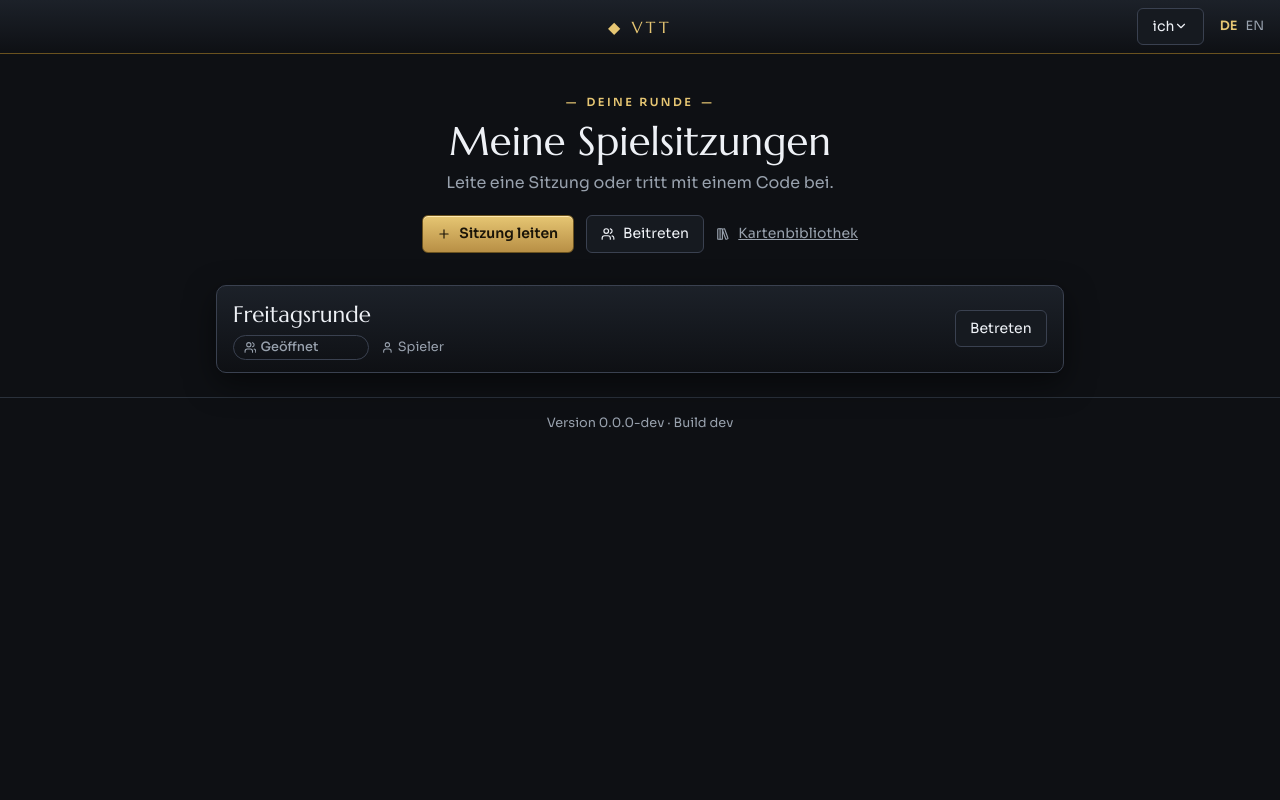
Werkzeugwahl erreicht die Kartenansicht
Check: the heading "Freitagsrunde" is shown, box [233, 300, 371, 328]
What coordinates should you click on to do the following:
click the button "Betreten"
I would click on:
 (1001, 328)
Its box is [955, 310, 1047, 347].
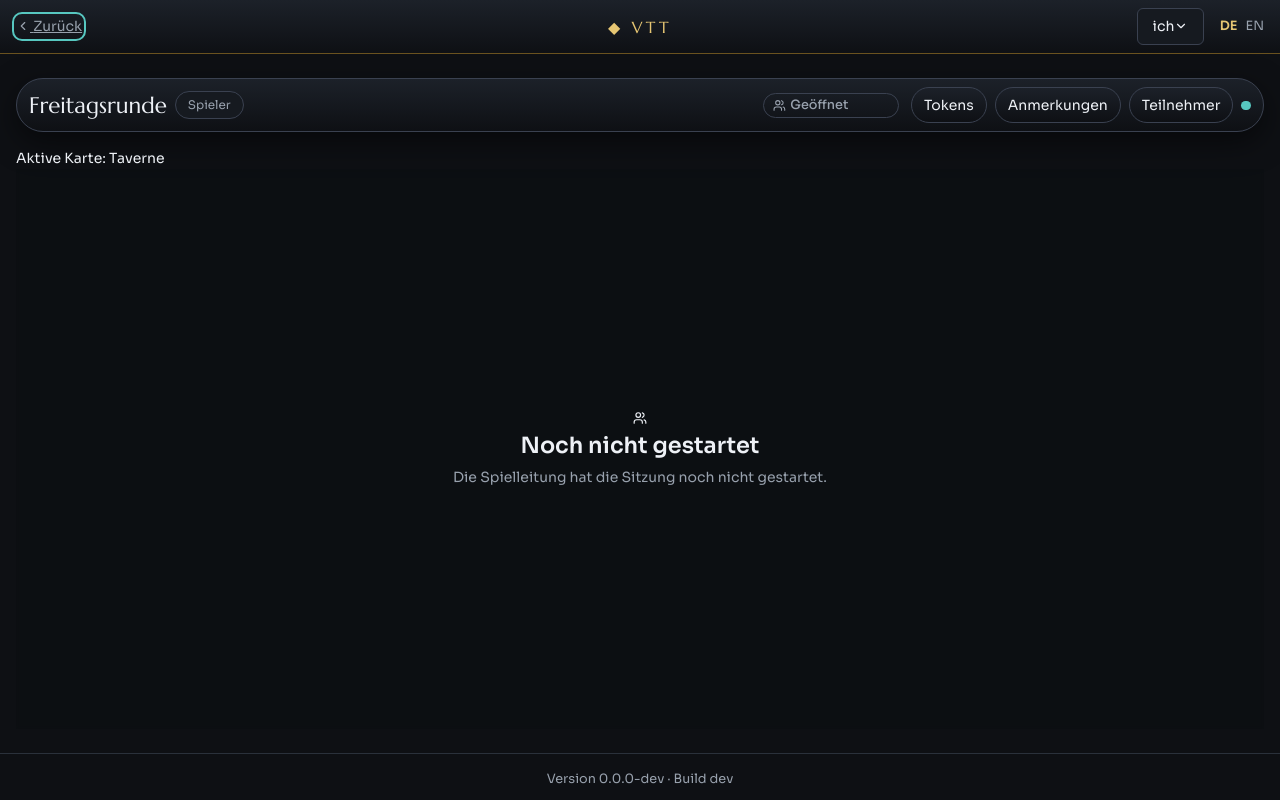
What coordinates should you click on to do the following:
click the button "Anmerkungen"
I would click on:
 (1058, 105)
Its box is [995, 87, 1121, 123].
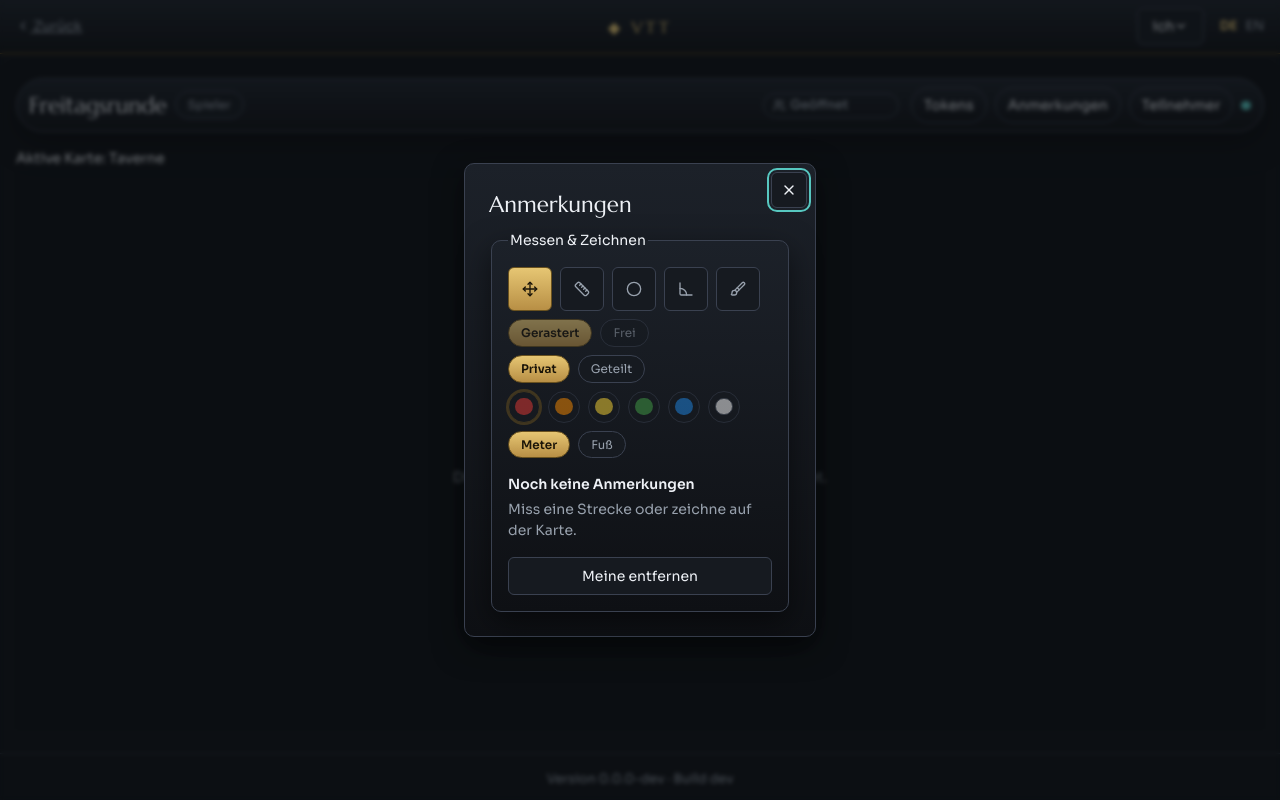
Check: the dialog "Anmerkungen" is shown, box [464, 163, 816, 637]
What coordinates should you click on to do the following:
click the button named "Strecke"
I would click on:
 (582, 289)
Its box is [560, 267, 604, 311].
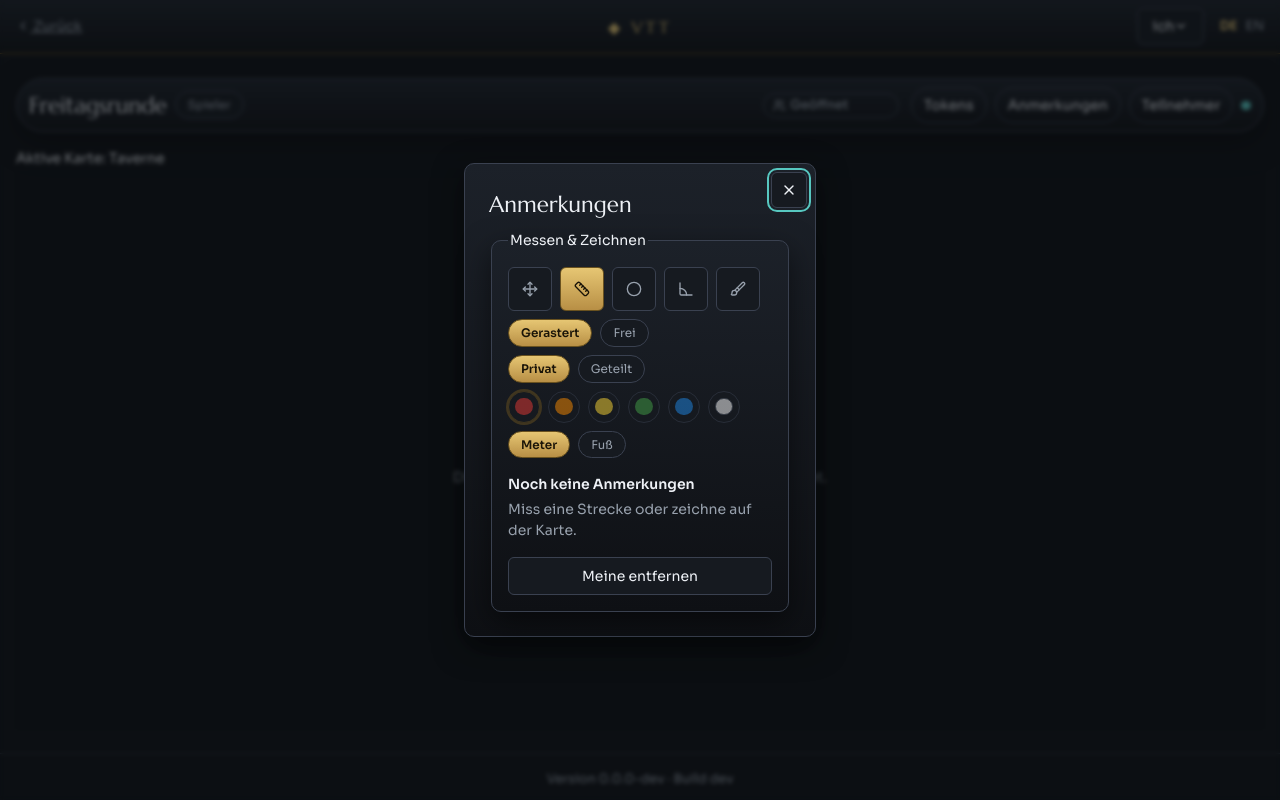
Check: the button named "Rot" is disabled, box [508, 390, 540, 422]
Check: the button "Gerastert" is enabled, box [508, 319, 592, 347]
